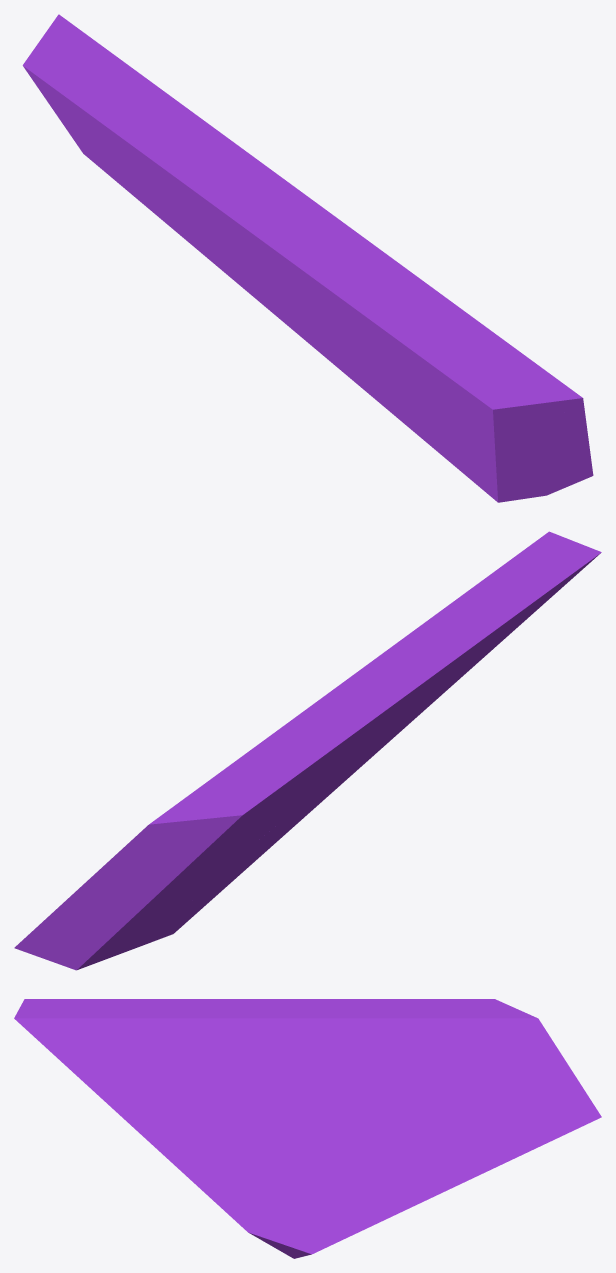
The model's file is Window_122_0_chunks.fbx.
3 views of the same model, one above another, from view 1: azimuth 30°, elevation 25°; view 2: azimuth 150°, elevation 25°; view 3: azimuth 270°, elevation 25° (orthographic). The views are drawn at different scales.
Visible parts, largest first — view 1: Window_122_0_12, Window_122_0_11, Window_122_0_0, Window_122_0_5, Window_122_0_3, Window_122_0_10, Window_122_0_6, Window_122_0_9, Window_122_0_8, Window_122_0_7; view 2: Window_122_0_0, Window_122_0_12, Window_122_0_11, Window_122_0_3, Window_122_0_10, Window_122_0_6, Window_122_0_9, Window_122_0_5, Window_122_0_8; view 3: Window_122_0_0, Window_122_0_1, Window_122_0_7, Window_122_0_5, Window_122_0_12, Window_122_0_8, Window_122_0_4, Window_122_0_3, Window_122_0_11, Window_122_0_2, Window_122_0_9.
Boxes of the visible parts, bbox=[...] form: Window_122_0_12: bbox=[43, 80, 349, 271]; Window_122_0_11: bbox=[321, 237, 545, 434]; Window_122_0_0: bbox=[22, 14, 392, 413]; Window_122_0_5: bbox=[447, 409, 592, 484]; Window_122_0_3: bbox=[350, 236, 565, 405]; Window_122_0_10: bbox=[162, 188, 417, 390]; Window_122_0_6: bbox=[333, 343, 520, 502]; Window_122_0_9: bbox=[247, 230, 359, 336]; Window_122_0_8: bbox=[347, 351, 449, 431]; Window_122_0_7: bbox=[499, 473, 593, 502]; Window_122_0_0: bbox=[14, 761, 257, 970]; Window_122_0_12: bbox=[235, 658, 414, 826]; Window_122_0_11: bbox=[369, 540, 601, 749]; Window_122_0_3: bbox=[382, 535, 570, 657]; Window_122_0_10: bbox=[234, 733, 380, 859]; Window_122_0_6: bbox=[149, 818, 296, 942]; Window_122_0_9: bbox=[358, 648, 470, 743]; Window_122_0_5: bbox=[257, 656, 484, 859]; Window_122_0_8: bbox=[256, 713, 414, 842]; Window_122_0_0: bbox=[343, 999, 601, 1225]; Window_122_0_1: bbox=[197, 1016, 403, 1137]; Window_122_0_7: bbox=[238, 1138, 372, 1258]; Window_122_0_5: bbox=[48, 1049, 252, 1223]; Window_122_0_12: bbox=[233, 999, 473, 1041]; Window_122_0_8: bbox=[166, 1085, 343, 1159]; Window_122_0_4: bbox=[14, 1015, 198, 1073]; Window_122_0_3: bbox=[16, 1010, 236, 1048]; Window_122_0_11: bbox=[19, 999, 236, 1015]; Window_122_0_2: bbox=[15, 1014, 202, 1095]; Window_122_0_9: bbox=[197, 999, 269, 1008].
Size of the model in its own units: 385 by 385 by 1124.
